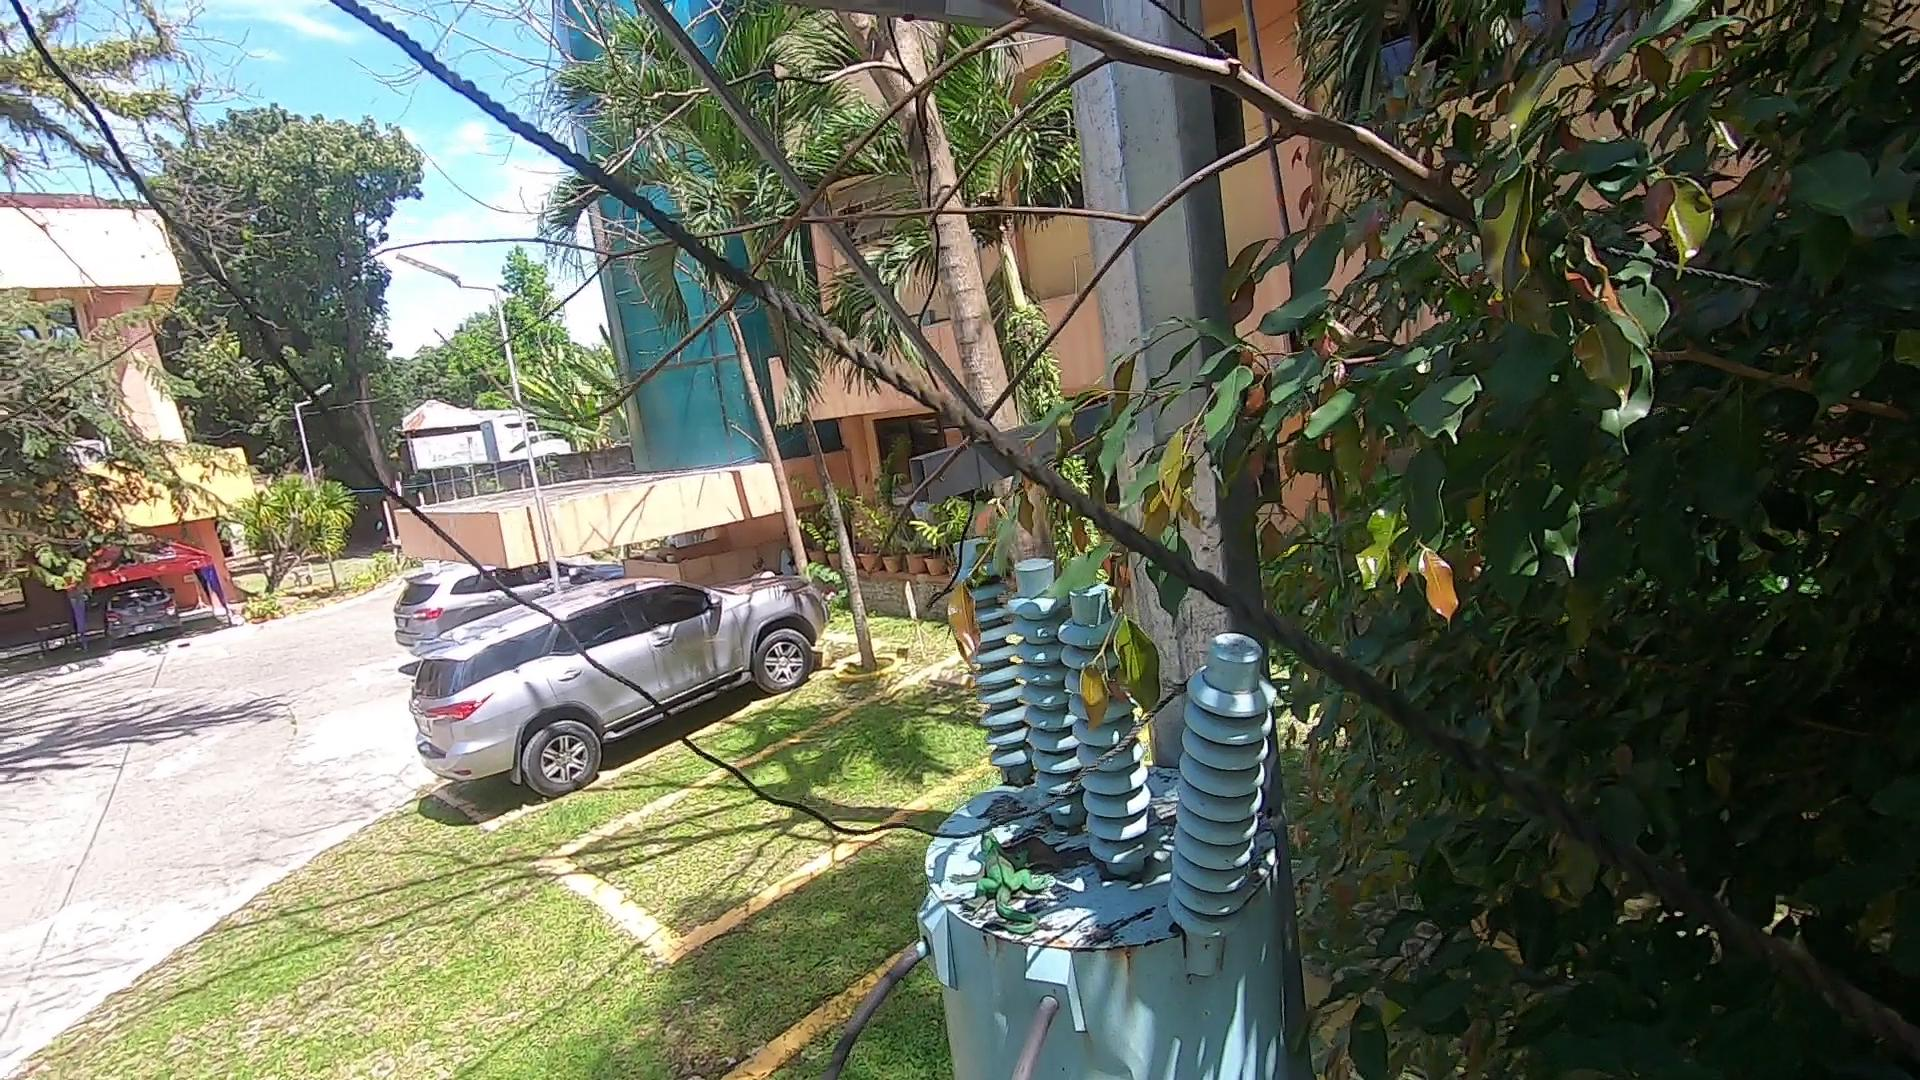leaf: (1007, 818, 1079, 884)
tree branch: (331, 1, 1575, 520)
